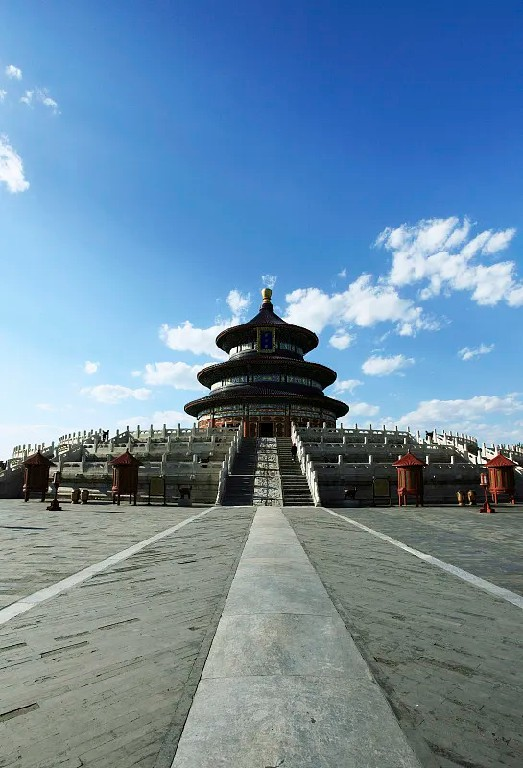Heaven: (184, 287, 349, 437)
